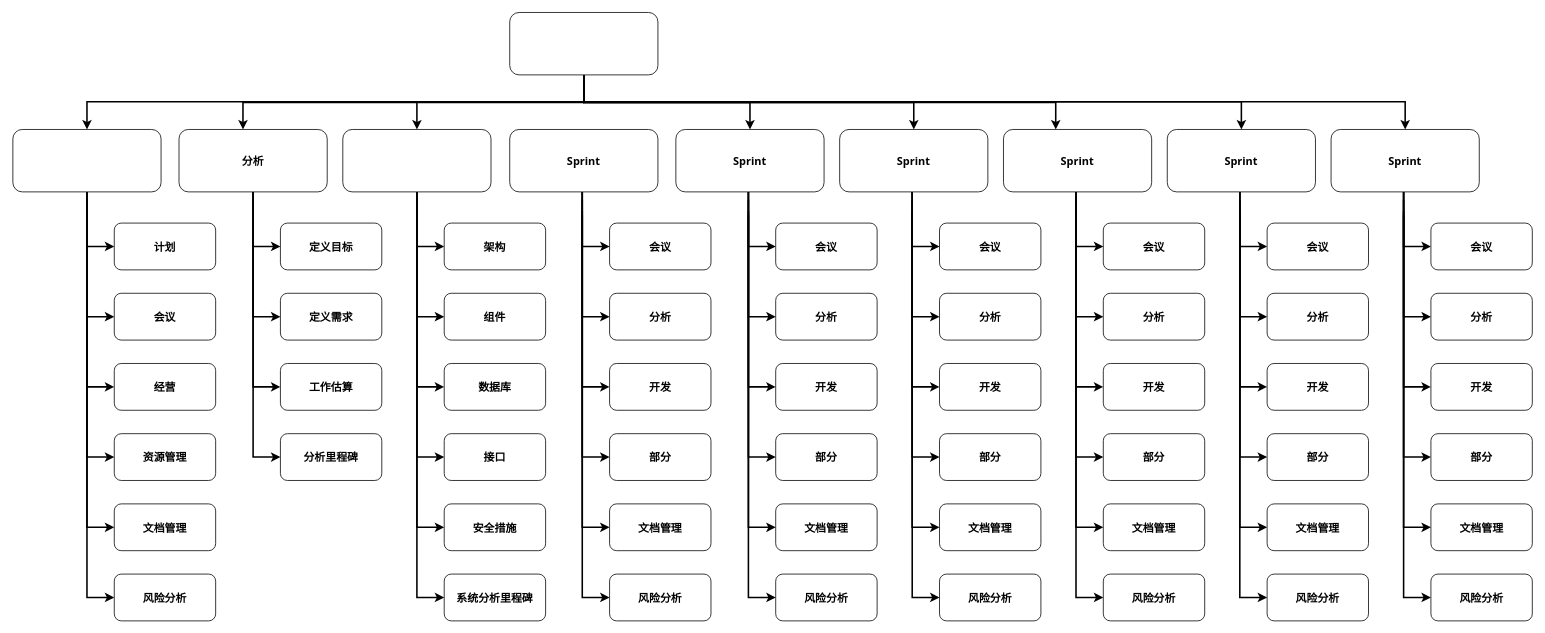
This 1545x633 diagram has some shape labels left out. Here are the shapes that lost their labels. From the top down, the centre of each, then its label:
the point at 583,43: 产品
the point at 86,160: 管理
the point at 416,160: 系统设计
